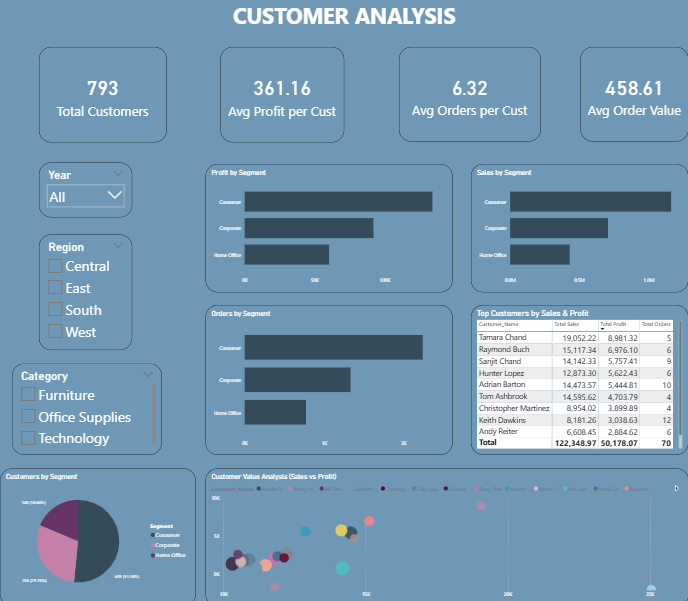

What the dashboard file says about the page in this screenshot:
{"tool":"powerbi","page":{"name":"CUSTOMER ANALYSIS","canvas":[1700,1500],"ordinal":2},"visuals":[{"type":"slicer","fields":{"Values":["DateTable.Year"]},"box":[95,405,230,135],"z":0},{"type":"slicer","fields":{"Values":["Superstore.Region"]},"box":[95,580,230,285],"z":1000},{"type":"slicer","fields":{"Values":["Superstore.Category"]},"box":[30,900,370,225],"z":2000},{"type":"barChart","title":"Profit by Segment","fields":{"Y":["DateTable.Total Profit"],"Category":["Superstore.Segment"]},"box":[506.7,406.7,610,316.7],"z":3000},{"type":"barChart","title":"Sales by Segment","fields":{"Y":["Superstore.Total Sales"],"Category":["Superstore.Segment"]},"box":[1163.3,406.7,536.7,316.7],"z":4000},{"type":"barChart","title":"Orders by Segment","fields":{"Y":["DateTable.Total Orders"],"Category":["Superstore.Segment"]},"box":[506.7,756.7,610,370],"z":5000},{"type":"card","fields":{"Values":["DateTable.Avg Order Value"]},"box":[1433.3,120,266.7,233.3],"z":6000},{"type":"card","fields":{"Values":["DateTable.Avg Profit per Customer"]},"box":[545,120,305,235],"z":7000},{"type":"pivotTable","title":"Top Customers by Sales & Profit","fields":{"Rows":["Superstore.Customer_Name"],"Values":["Superstore.Total Sales","DateTable.Total Profit","DateTable.Total Orders"]},"box":[1163.3,756.7,536.7,370],"z":8000},{"type":"card","fields":{"Values":["DateTable.Avg Orders per Customer"]},"box":[986.7,120,350,233.3],"z":9000},{"type":"card","fields":{"Values":["DateTable.Total Customers"]},"box":[95,120,315,235],"z":10000},{"type":"scatterChart","title":"Customer Value Analysis (Sales vs Profit)","fields":{"Y":["DateTable.Total Profit"],"X":["Superstore.Total Sales"],"Series":["Superstore.Customer_Name"],"Size":["DateTable.Total Orders"]},"box":[506.7,1160,1193.3,340],"z":11000},{"type":"pieChart","title":"Customers by Segment","fields":{"Category":["Superstore.Segment"],"Y":["DateTable.Total Customers"]},"box":[0,1160,483.3,340],"z":12000},{"type":"textbox","box":[0,0,1700,120],"z":13000}]}

Visuals, with their boxes in screenshot pixels (x1, y1, x2, y2), scaled from the page's 1700x1500 canvas onto the 688x601 screenshot:
slicer - DateTable.Year: Rect(38, 162, 132, 216)
slicer - Superstore.Region: Rect(38, 232, 132, 347)
slicer - Superstore.Category: Rect(12, 361, 162, 451)
"Profit by Segment" barChart: Rect(205, 163, 452, 290)
"Sales by Segment" barChart: Rect(471, 163, 687, 290)
"Orders by Segment" barChart: Rect(205, 303, 452, 451)
card - DateTable.Avg Order Value: Rect(580, 48, 687, 142)
card - DateTable.Avg Profit per Customer: Rect(221, 48, 344, 142)
"Top Customers by Sales & Profit" pivotTable: Rect(471, 303, 687, 451)
card - DateTable.Avg Orders per Customer: Rect(399, 48, 541, 142)
card - DateTable.Total Customers: Rect(38, 48, 166, 142)
"Customer Value Analysis (Sales vs Profit)" scatterChart: Rect(205, 465, 687, 600)
"Customers by Segment" pieChart: Rect(0, 465, 196, 600)
textbox: Rect(0, 0, 687, 48)
